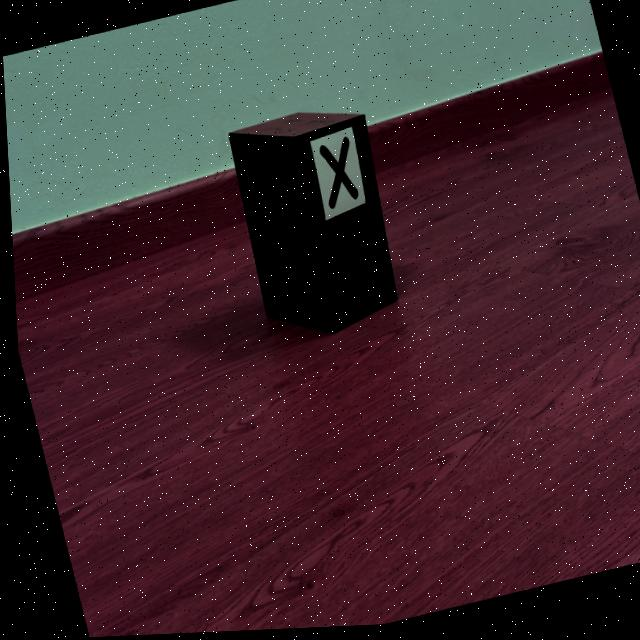X: (318, 140, 356, 212)
